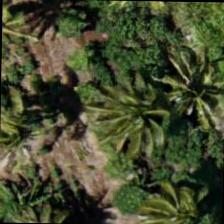Kelapa_Sawit: (85, 64, 177, 156), (119, 166, 212, 223), (0, 88, 57, 180)
